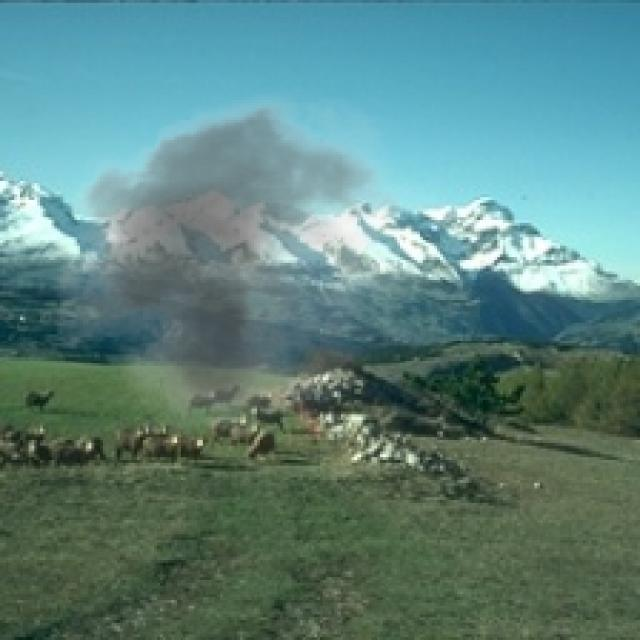Smoke: (34, 80, 449, 437)
